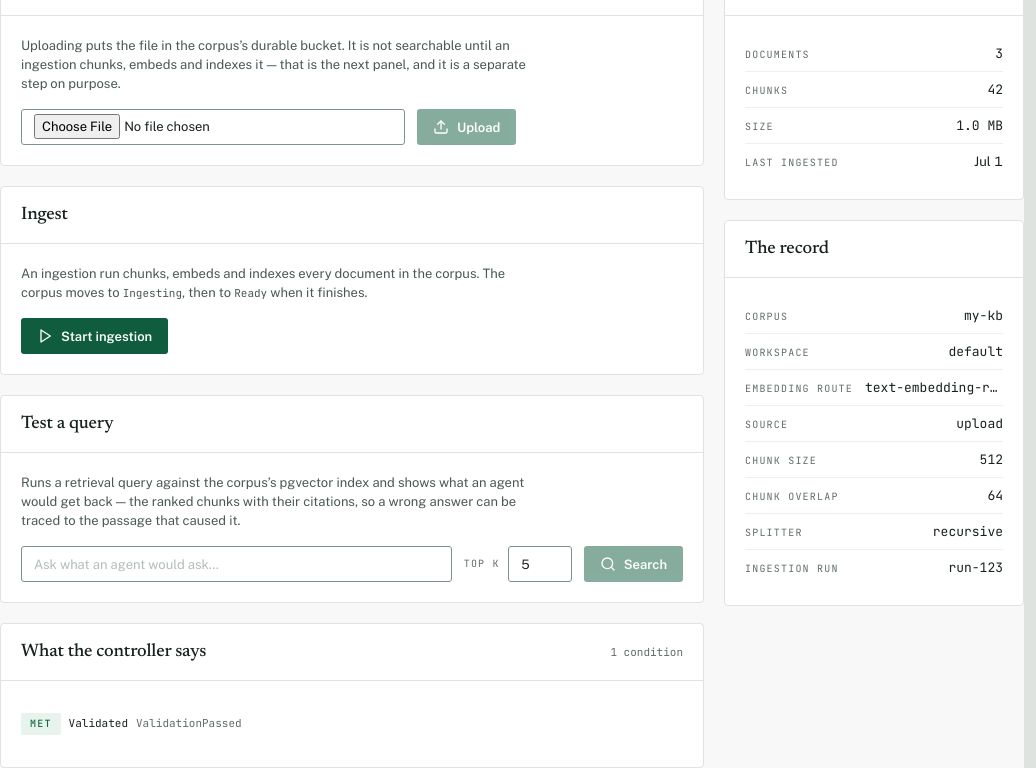
Test: KBDetailPage — test-query panel (m68.13) › renders search results with citation fields (documentRef#chunkIndex + score + content)
The width and height of the screenshot is (1036, 768).
(page scrolled)
Note: Type a query and submit
In the field with test id "query-input": {"x": 236, "y": 564} 21,546 -> 452,582, type "how to configure"
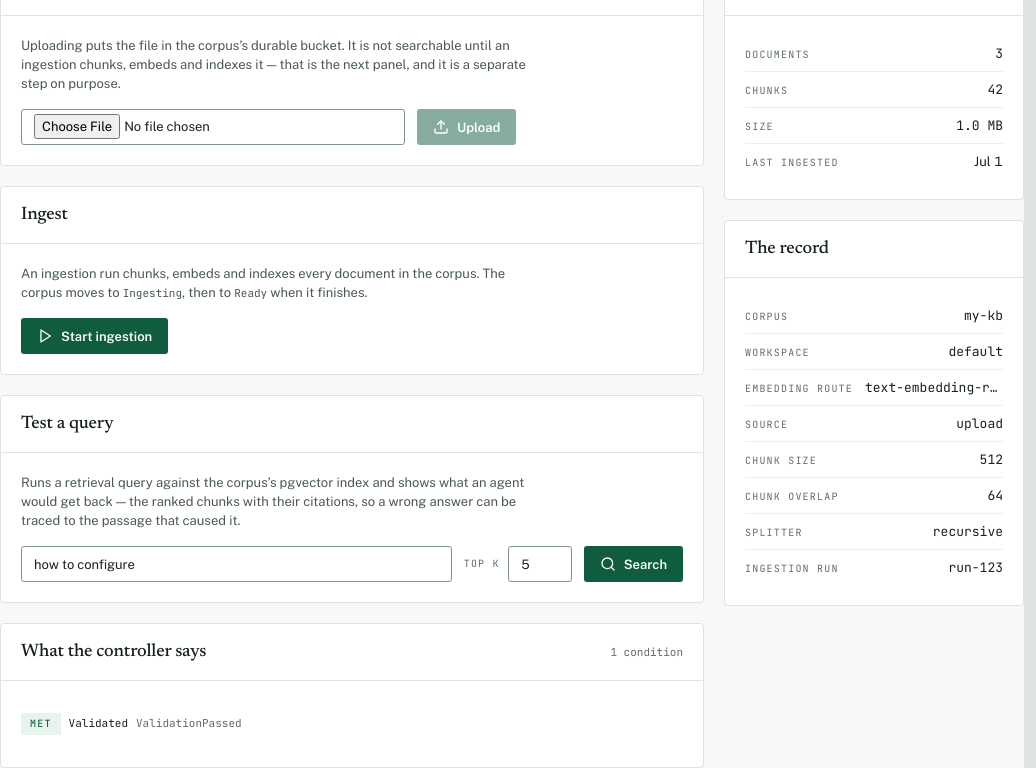
Click the button with test id "query-submit": {"x": 633, "y": 564} 584,546 -> 683,582
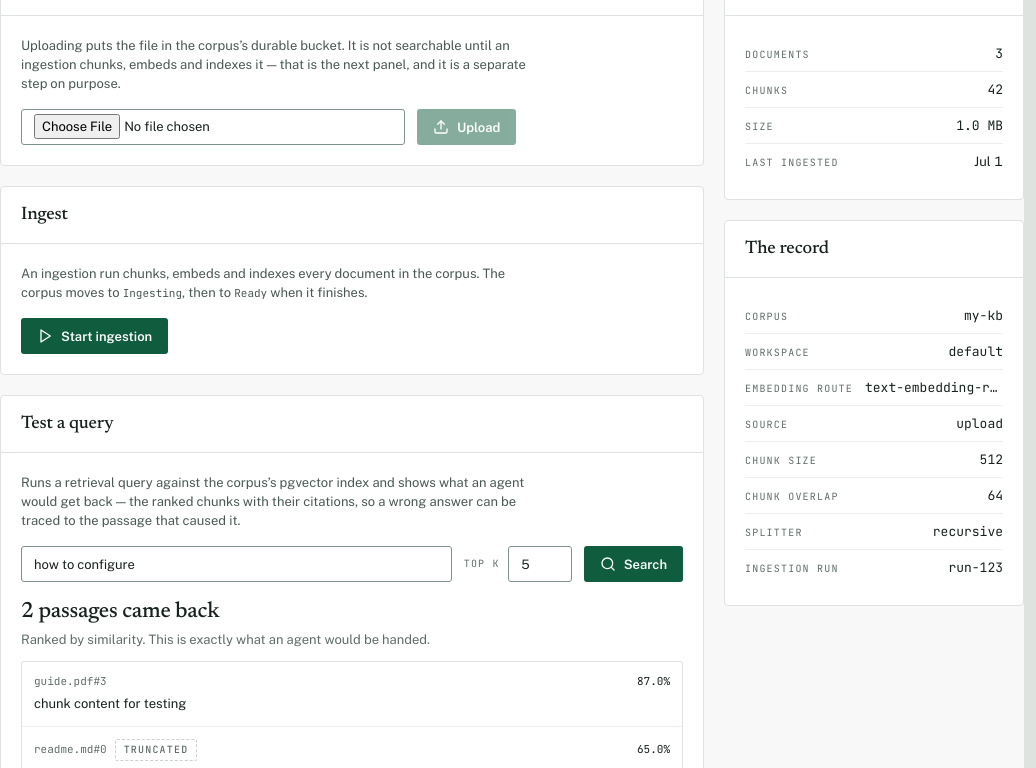
Now the list item with test id "query-hit-0" is shown, box 22,662 -> 682,727
Now the text "guide.pdf#3" is shown, box 34,674 -> 107,689
Now the text "readme.md#0" is shown, box 34,742 -> 107,757
